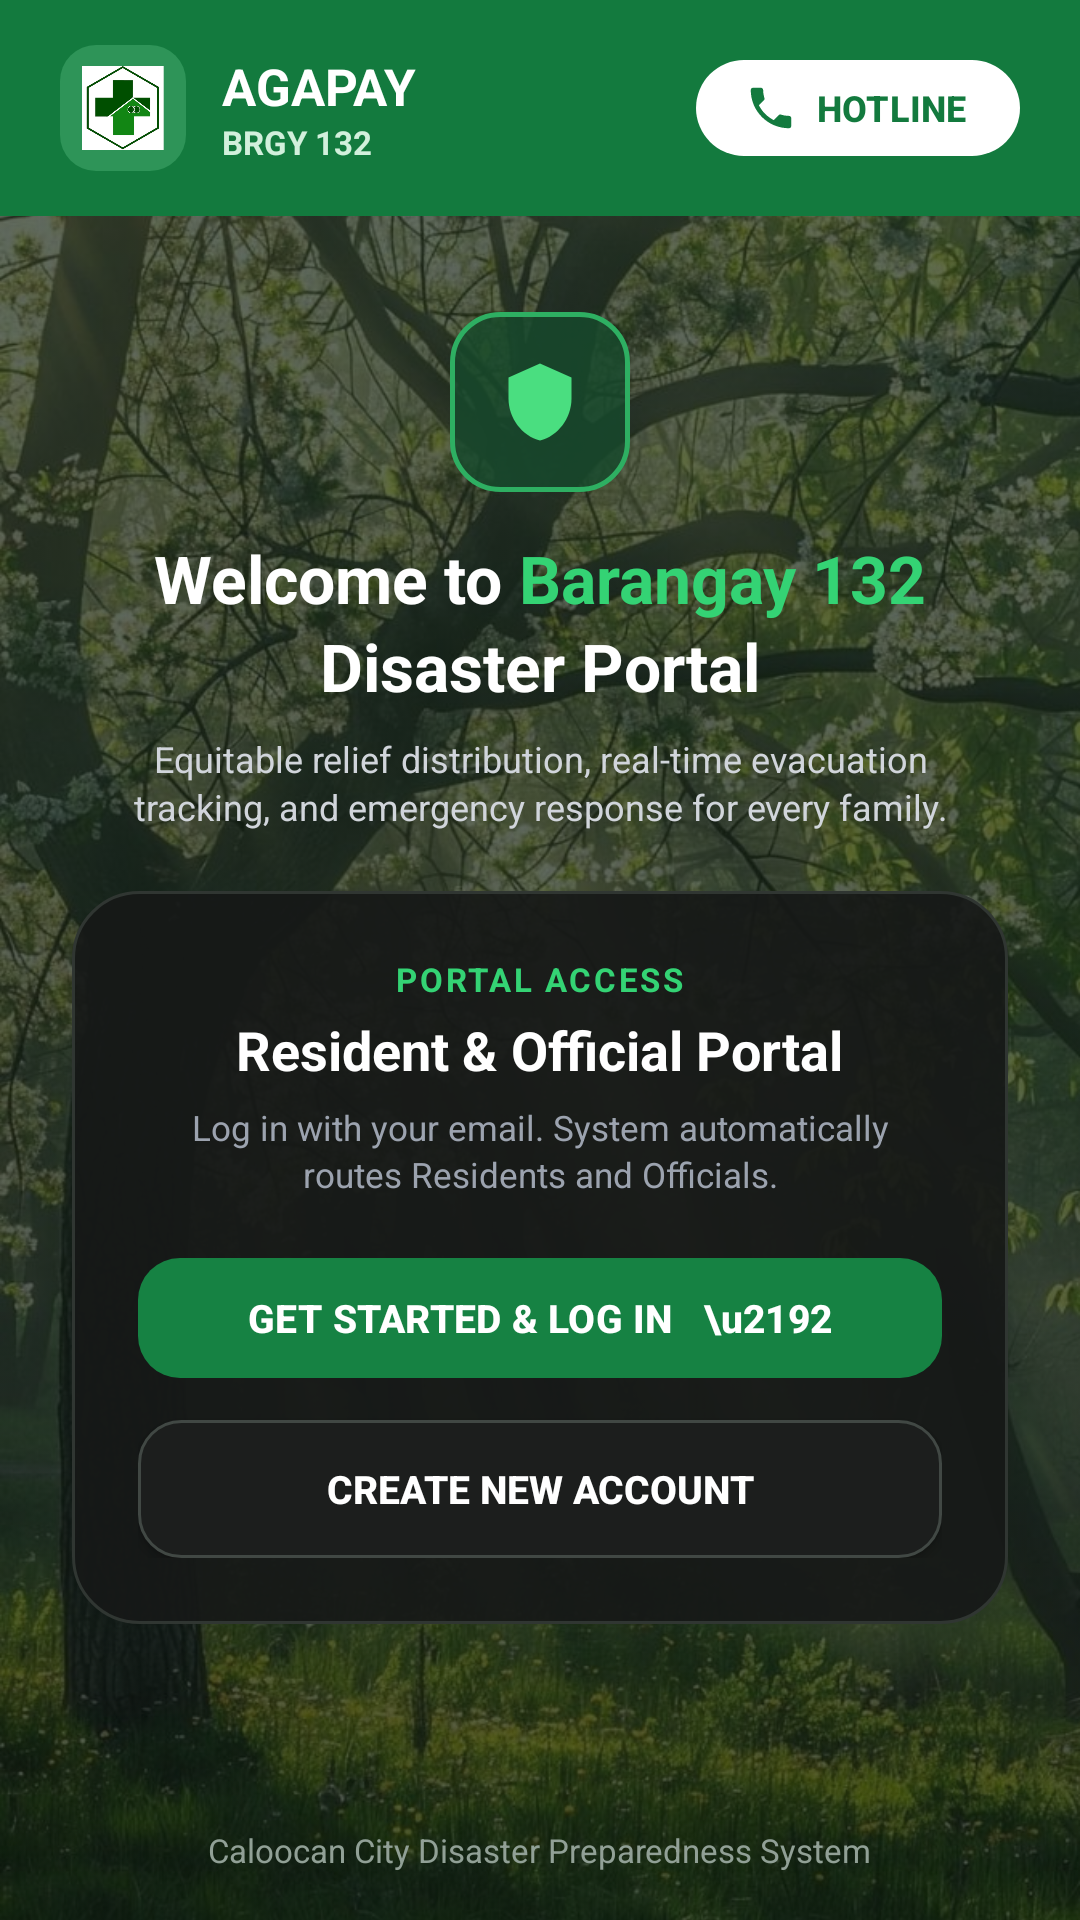

Icons on this 1080*1920 Android screen, each with the point to tap as [x,y]:
Shield: [540,402]
